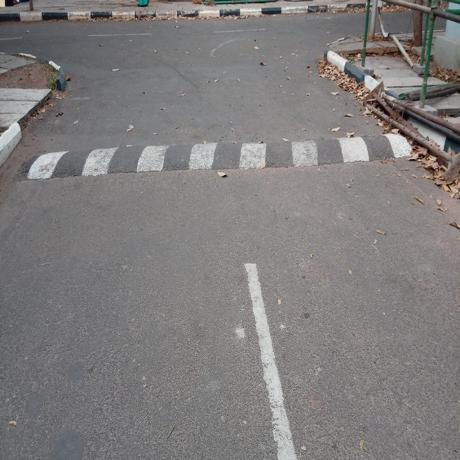Speed Bump: (19, 135, 415, 183)
